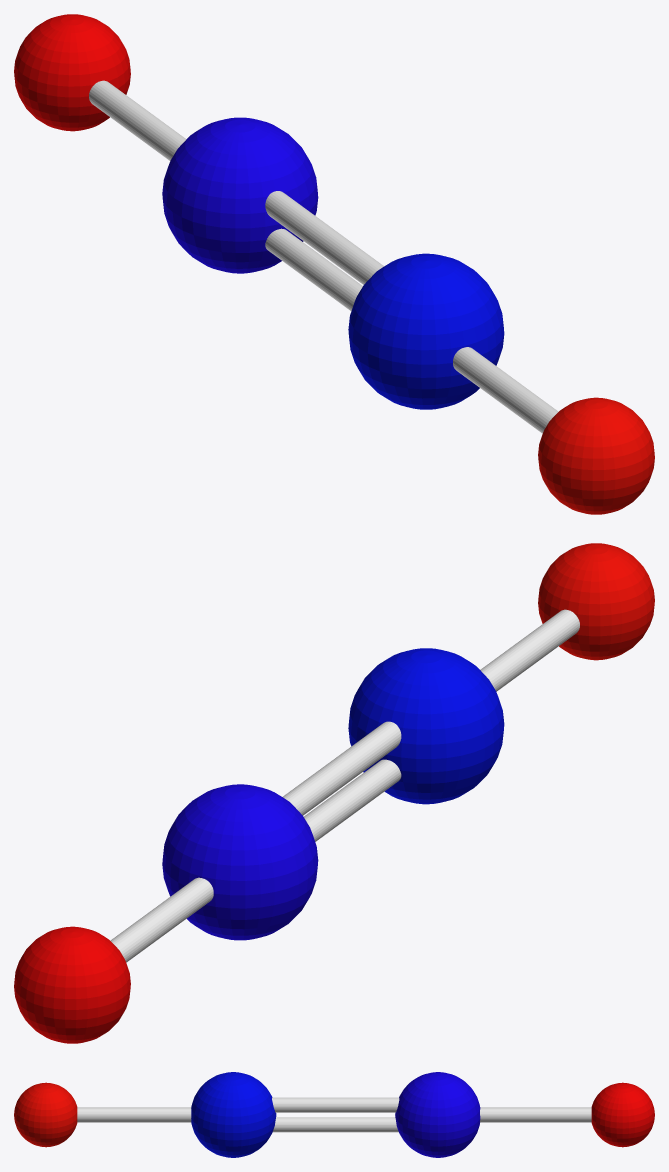
3 renders of one model, top to bottom at view 1: azimuth 30°, elevation 25°; view 2: azimuth 150°, elevation 25°; view 3: azimuth 270°, elevation 25°, orthographic. The views are drawn at different scales.
Parts seen in each view (by area): view 1: Sphere.002, Sphere.001, Sphere, Sphere.003, Cylinder, Cylinder.001, Cylinder.002, Cylinder.003; view 2: Sphere.001, Sphere.002, Sphere.003, Sphere, Cylinder, Cylinder.003, Cylinder.001, Cylinder.002; view 3: Sphere.002, Sphere.001, Sphere.003, Sphere, Cylinder, Cylinder.002, Cylinder.001, Cylinder.003.
Part boxes in pixels (x1,y1,x2,y2): Sphere.002: (348,253,504,409); Sphere.001: (162,117,318,273); Sphere: (538,397,654,514); Sphere.003: (14,14,130,131); Cylinder: (265,191,383,284); Cylinder.001: (453,347,558,433); Cylinder.002: (265,228,362,311); Cylinder.003: (89,80,186,160); Sphere.001: (162,784,318,940); Sphere.002: (348,648,504,804); Sphere.003: (14,926,130,1043); Sphere: (538,543,654,660); Cylinder: (283,721,401,815); Cylinder.003: (110,877,213,962); Cylinder.001: (480,609,579,691); Cylinder.002: (304,759,401,841); Sphere.002: (191,1072,276,1157); Sphere.001: (395,1072,480,1157); Sphere.003: (591,1082,654,1147); Sphere: (14,1082,77,1147); Cylinder: (272,1097,399,1112); Cylinder.002: (273,1117,398,1132); Cylinder.001: (77,1107,191,1122); Cylinder.003: (480,1107,591,1122).
Size of the model in its own units: 2 by 2 by 14.91.
